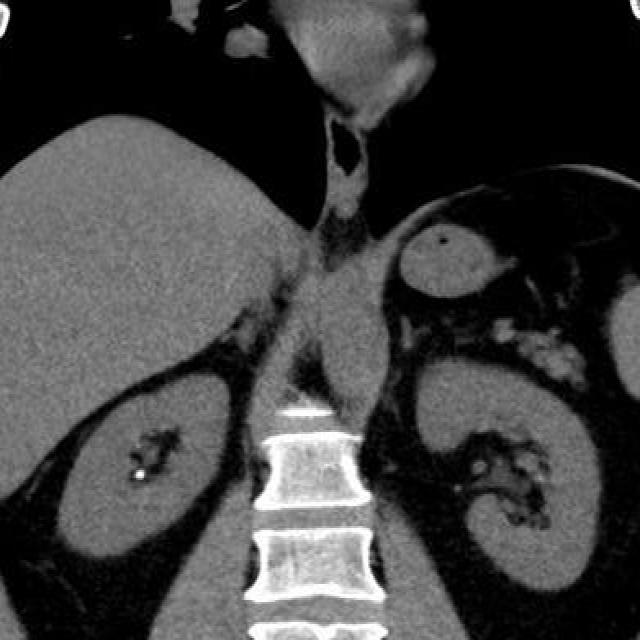Tas_Var: (130, 464, 147, 484)
